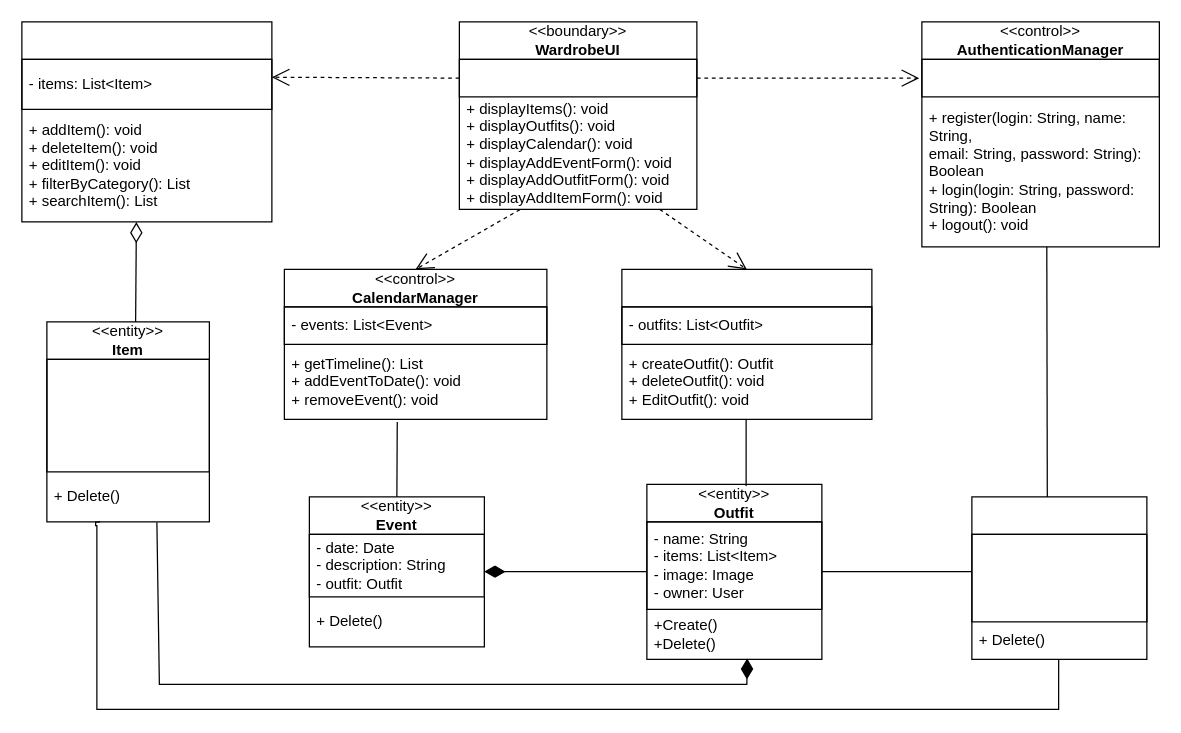
Image size: 1181x733. Some labels were removed from this diagram. The shapes that lost their labels are listed below. From the top down, each one's box as (x1, y1, x2, y2) in pixels, then its label:
(921, 58, 1159, 97): - currentUser: User
(21, 21, 272, 222): <<control>> ItemManager
(621, 268, 872, 419): <<control>> OutfitManager
(46, 358, 209, 472): - name: String - category: String - season: String - image: Image - owner: User
(971, 533, 1147, 622): - name: String - email: String - password: String
(971, 496, 1147, 659): <<entity>> User
